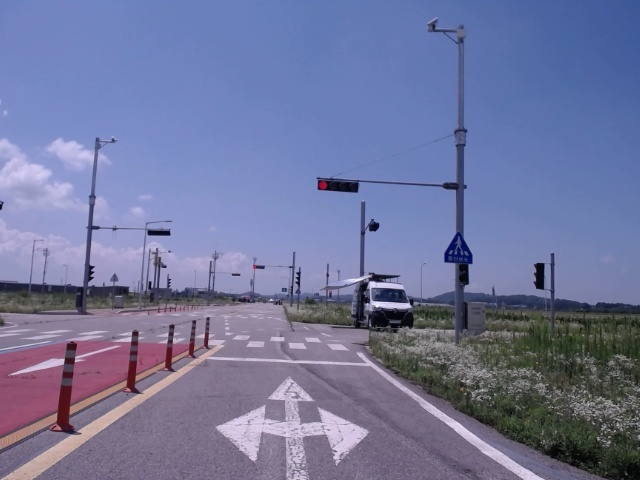red_4: (317, 179, 359, 194)
